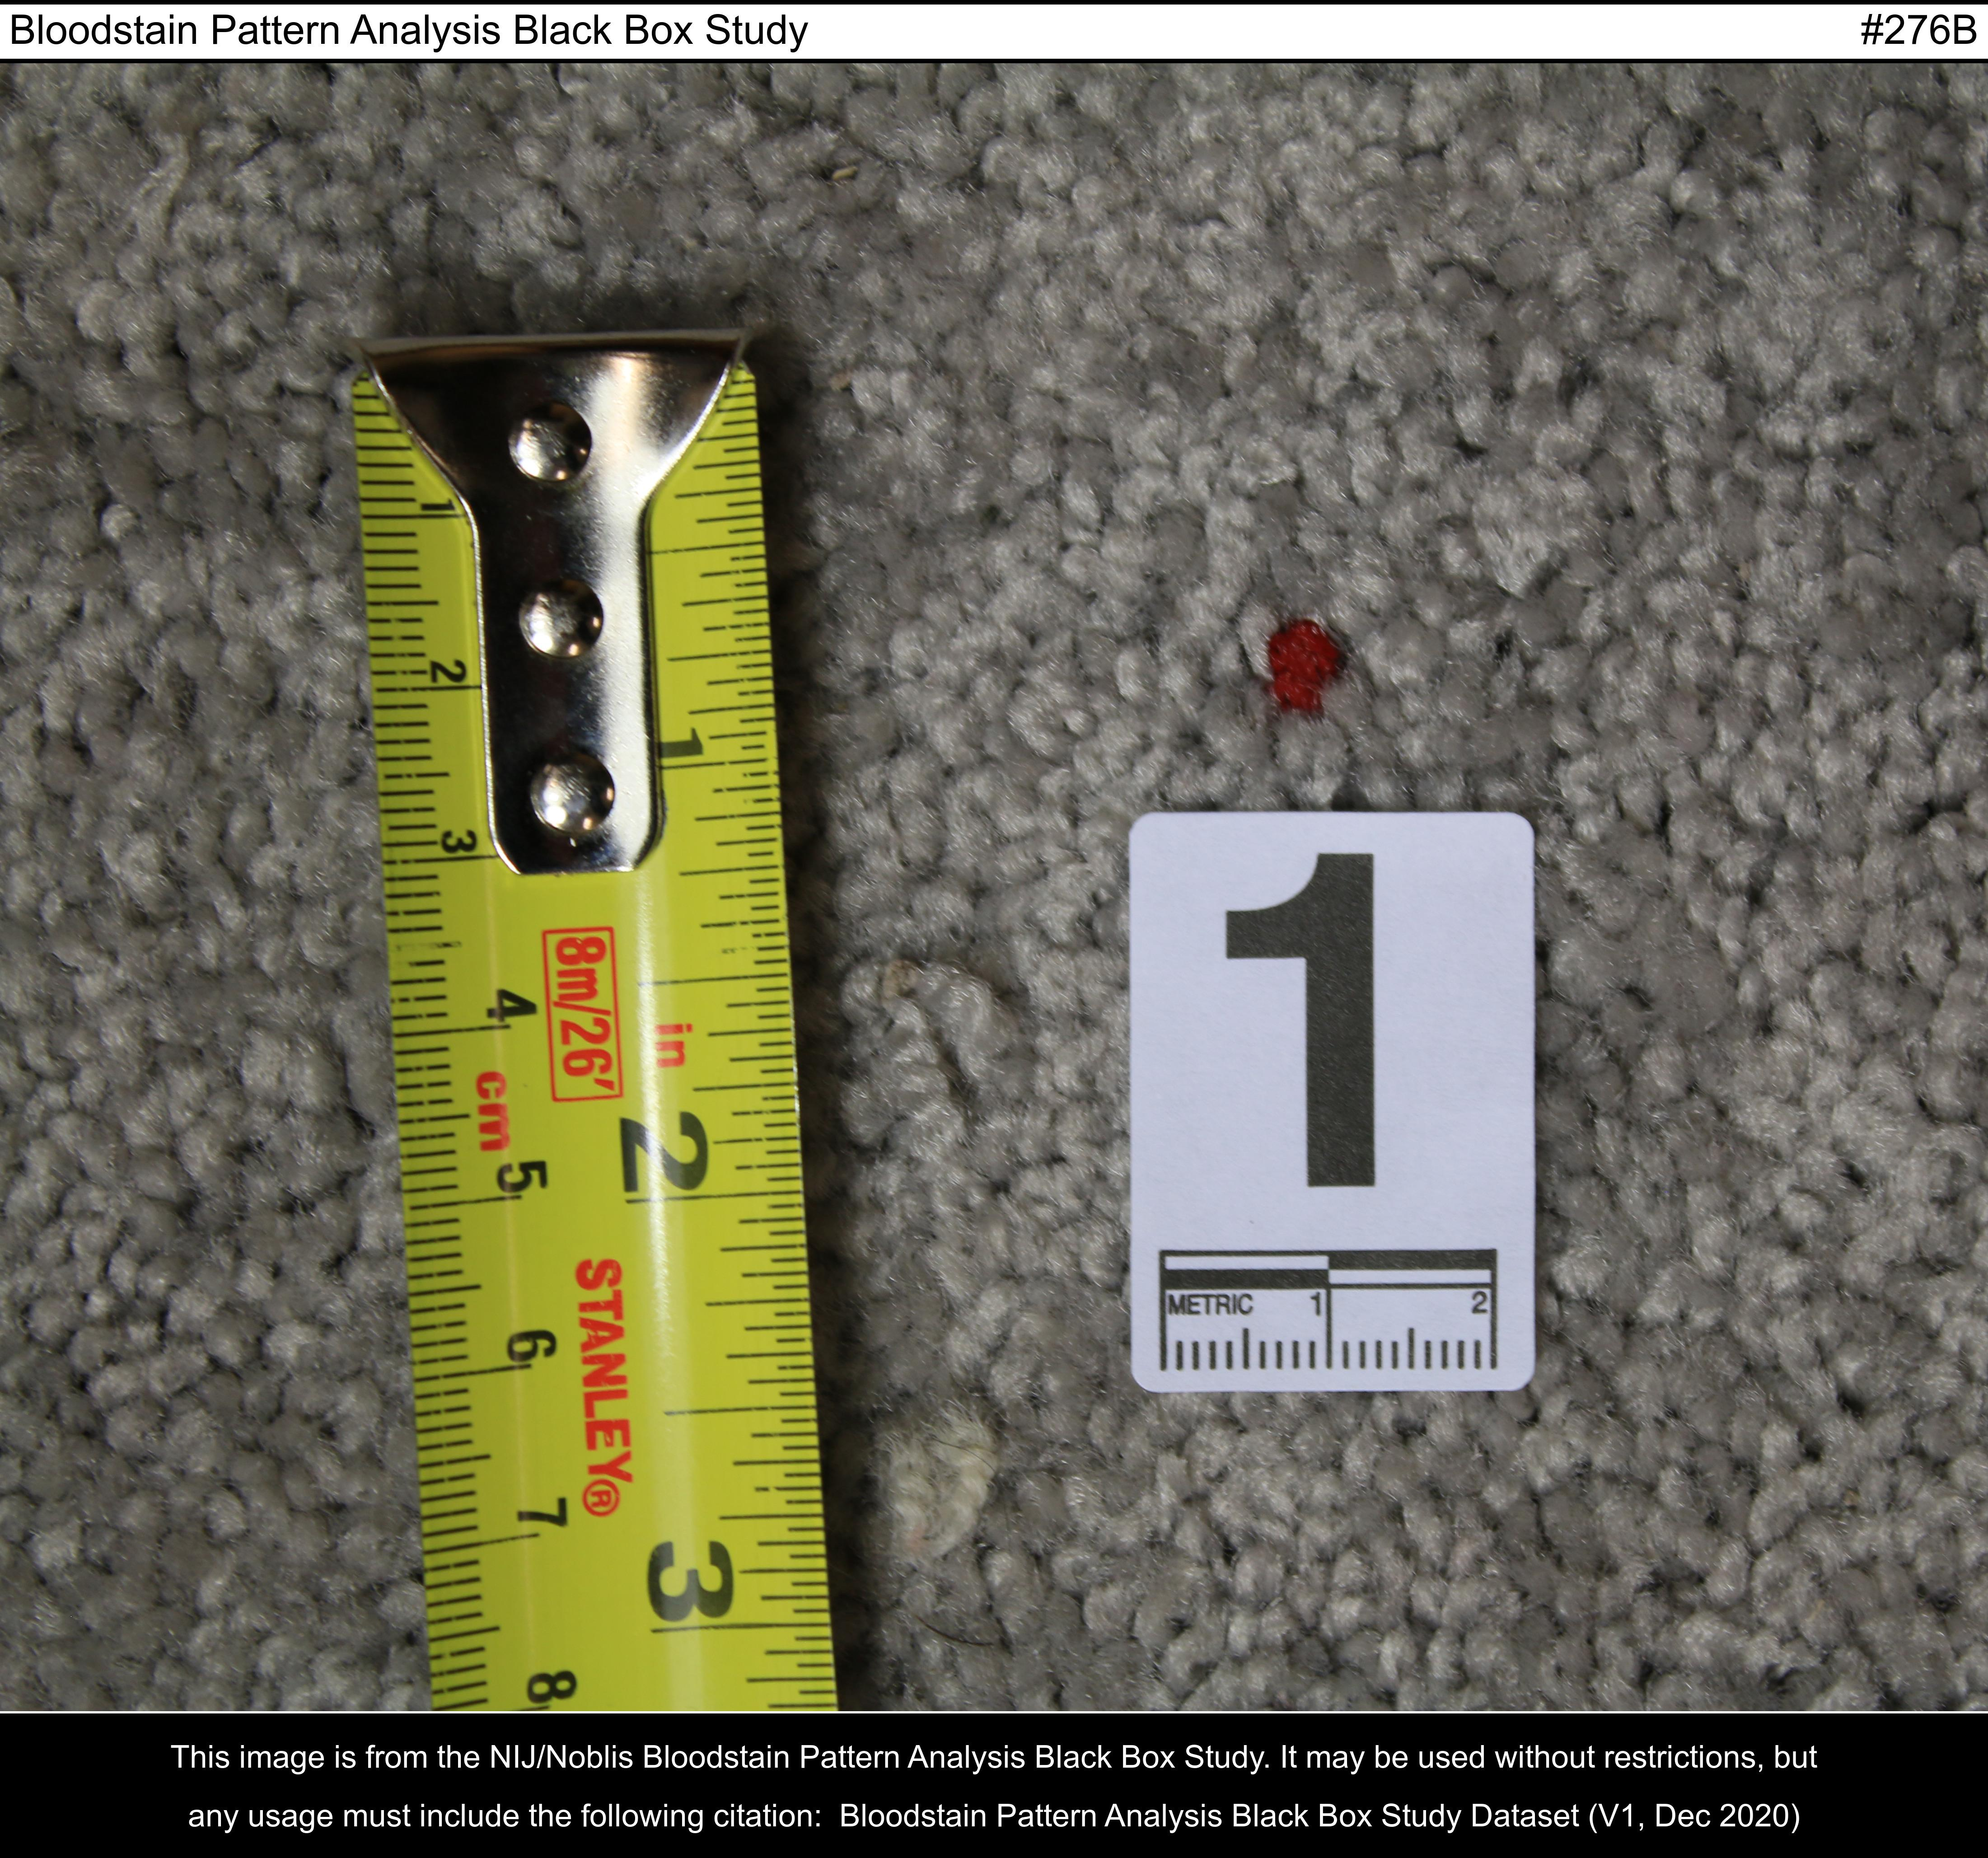Passive: (1239, 601, 1382, 754)
